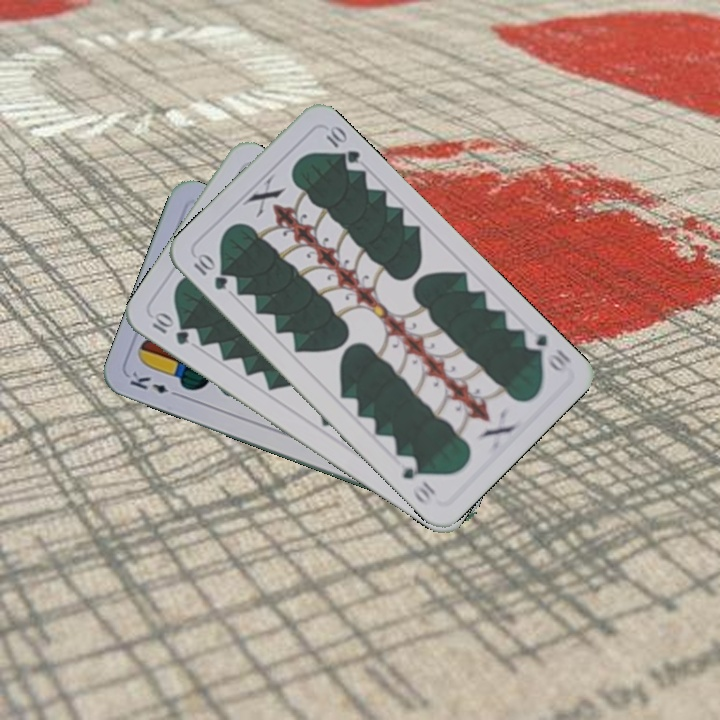EK: (125, 367, 183, 399)
G10: (520, 325, 574, 376), (189, 250, 231, 293), (148, 309, 192, 348)
